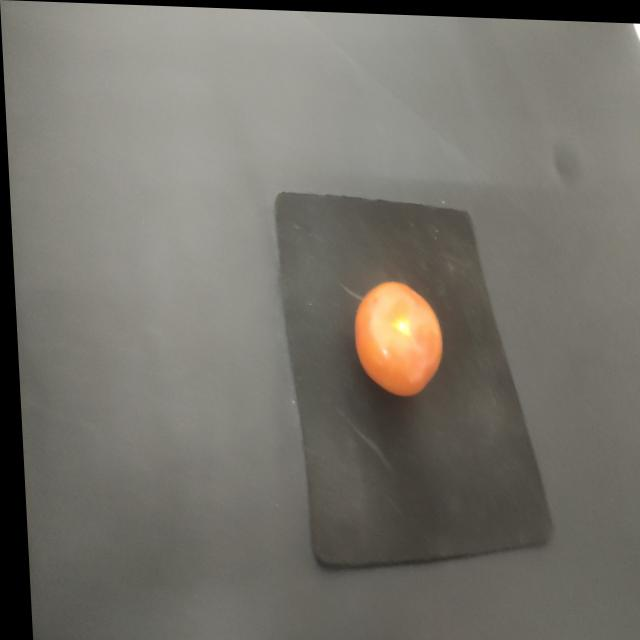sari: (339, 270, 448, 404)
